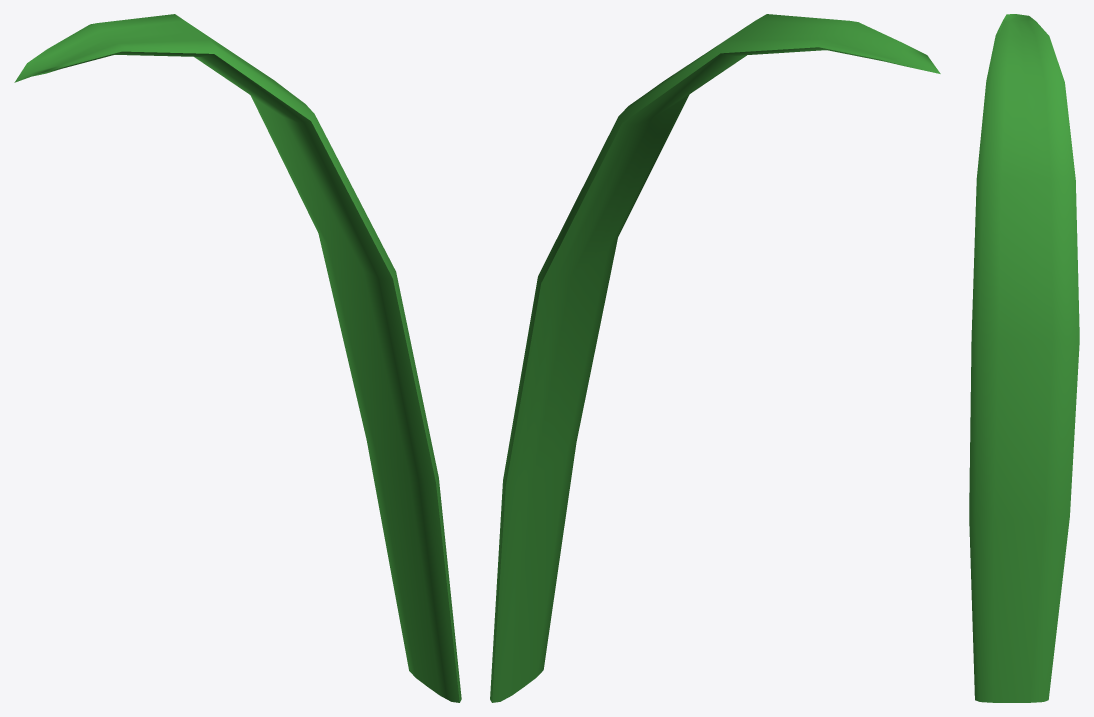
Rendered from SM_Grass_Blade_Tall_01.fbx.
3 views of the same model, side by side, from view 1: azimuth 30°, elevation 25°; view 2: azimuth 150°, elevation 25°; view 3: azimuth 270°, elevation 25° (orthographic). The views are drawn at different scales.
Parts seen in each view (by area): view 1: Cube.003; view 2: Cube.003; view 3: Cube.003.
Part boxes in pixels (left/top/right/bottom): Cube.003: left=14, top=14, right=461, bottom=702; Cube.003: left=490, top=14, right=940, bottom=702; Cube.003: left=969, top=14, right=1079, bottom=702.
Size of the model in its own units: 17.29 by 28.02 by 5.14.
